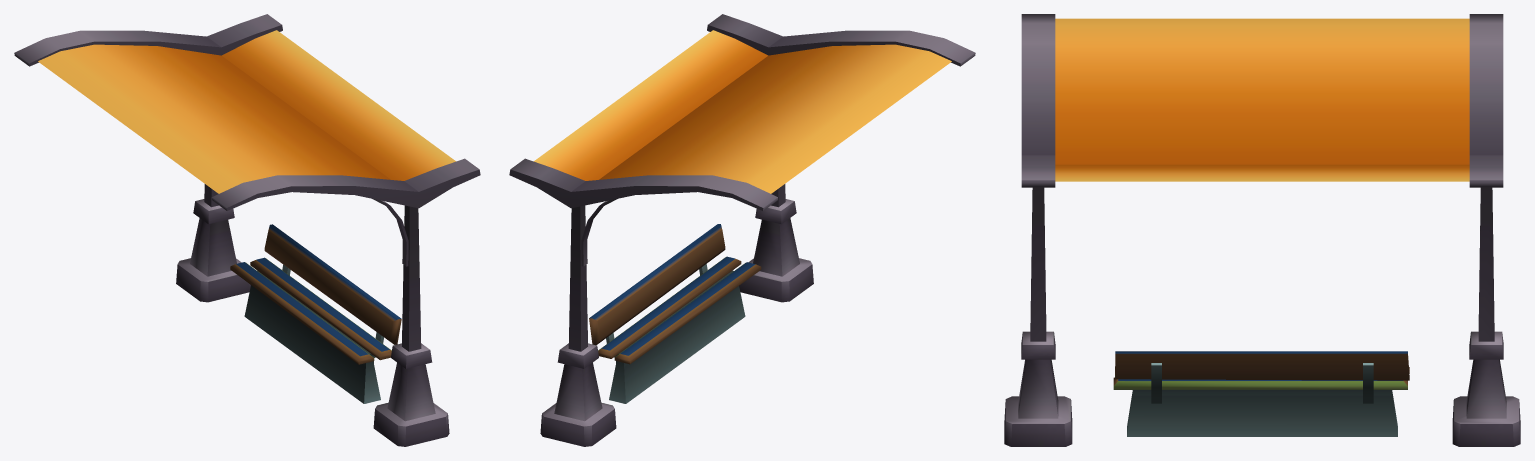
Rendered from Bus_stop.fbx.
3 views of the same model, side by side, from view 1: azimuth 30°, elevation 25°; view 2: azimuth 150°, elevation 25°; view 3: azimuth 270°, elevation 25° (orthographic). The views are drawn at different scales.
Visible parts, largest first — view 1: bus stop; view 2: bus stop; view 3: bus stop.
Part boxes in pixels (left/top/right/bottom): bus stop: left=14, top=14, right=480, bottom=446; bus stop: left=509, top=14, right=975, bottom=446; bus stop: left=1004, top=14, right=1520, bottom=446.
Bounding box in the file's own units: 158 × 168 × 245.
